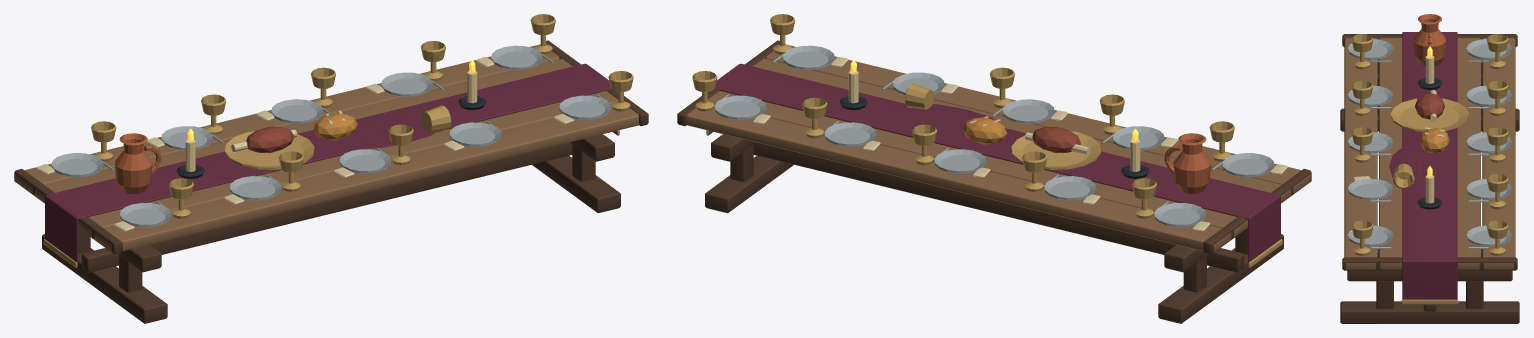
File: feast_table_spilled.glb
3 renders of one model, left to right at view 1: azimuth 30°, elevation 25°; view 2: azimuth 150°, elevation 25°; view 3: azimuth 270°, elevation 25°, orthographic. The views are drawn at different scales.
Parts seen in each view (by area): view 1: feast_table_spilled; view 2: feast_table_spilled; view 3: feast_table_spilled.
Boxes of the visible parts, bbox=[...] form: feast_table_spilled: bbox=[14, 14, 648, 323]; feast_table_spilled: bbox=[677, 14, 1311, 323]; feast_table_spilled: bbox=[1340, 14, 1519, 323].
Bounding box in the file's own units: 7.92 × 1.96 × 2.6.
